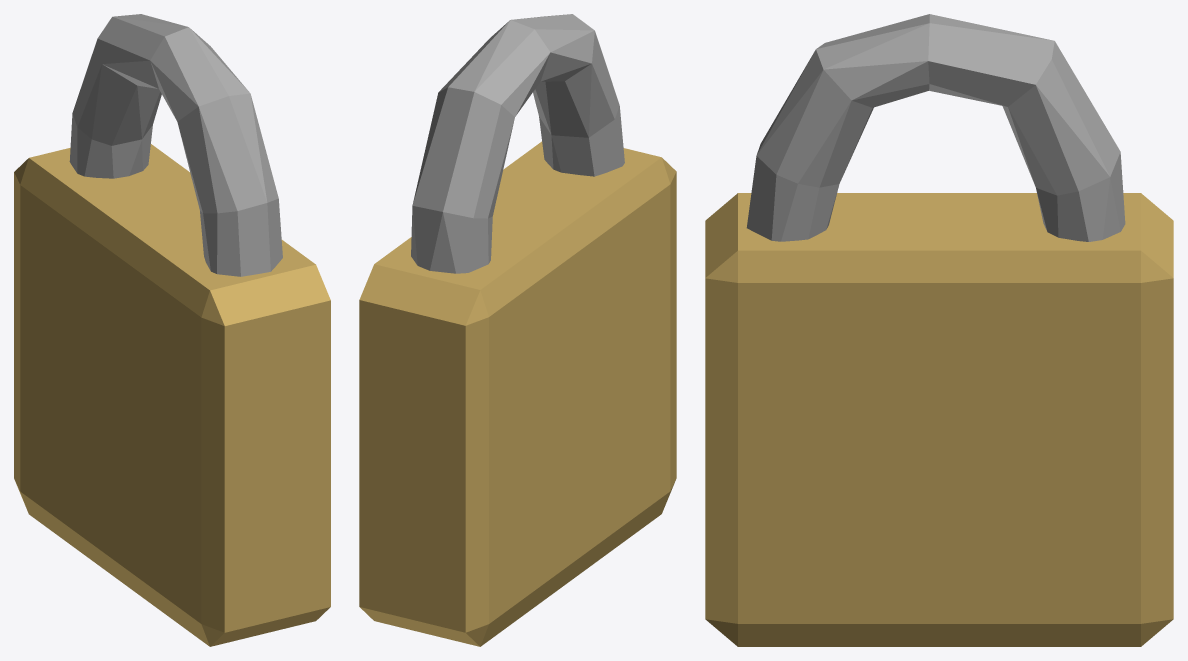
File: cadeado.fbx
The picture shows the model from 3 angles, left to right: view 1: azimuth 30°, elevation 25°; view 2: azimuth 150°, elevation 25°; view 3: azimuth 270°, elevation 25°; orthographic projection. The views are drawn at different scales.
Parts seen in each view (by area): view 1: Cadeado, Cadeado-lock; view 2: Cadeado, Cadeado-lock; view 3: Cadeado, Cadeado-lock.
Part boxes in pixels (x1,y1,x2,y2): Cadeado: (14,144,330,646); Cadeado-lock: (69,14,282,276); Cadeado: (359,141,676,646); Cadeado-lock: (411,14,624,273); Cadeado: (705,193,1173,646); Cadeado-lock: (746,14,1125,241).
Bounding box in the file's own units: 3.82 × 16.02 × 11.31.
